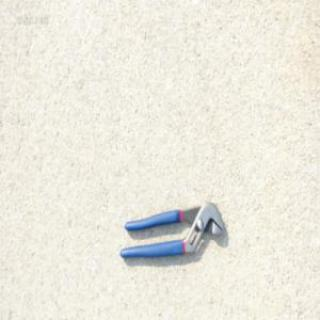Pliertrack_idkeyframe: (119, 199, 228, 258)
